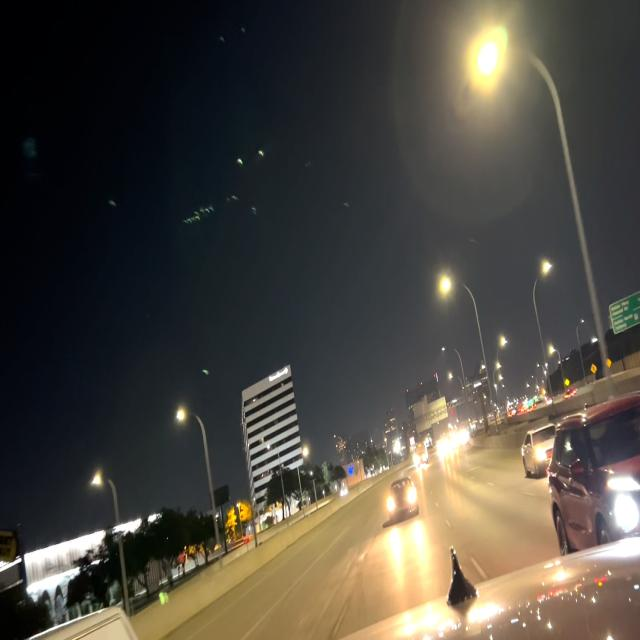back-of-sign: (412, 395, 448, 437)
